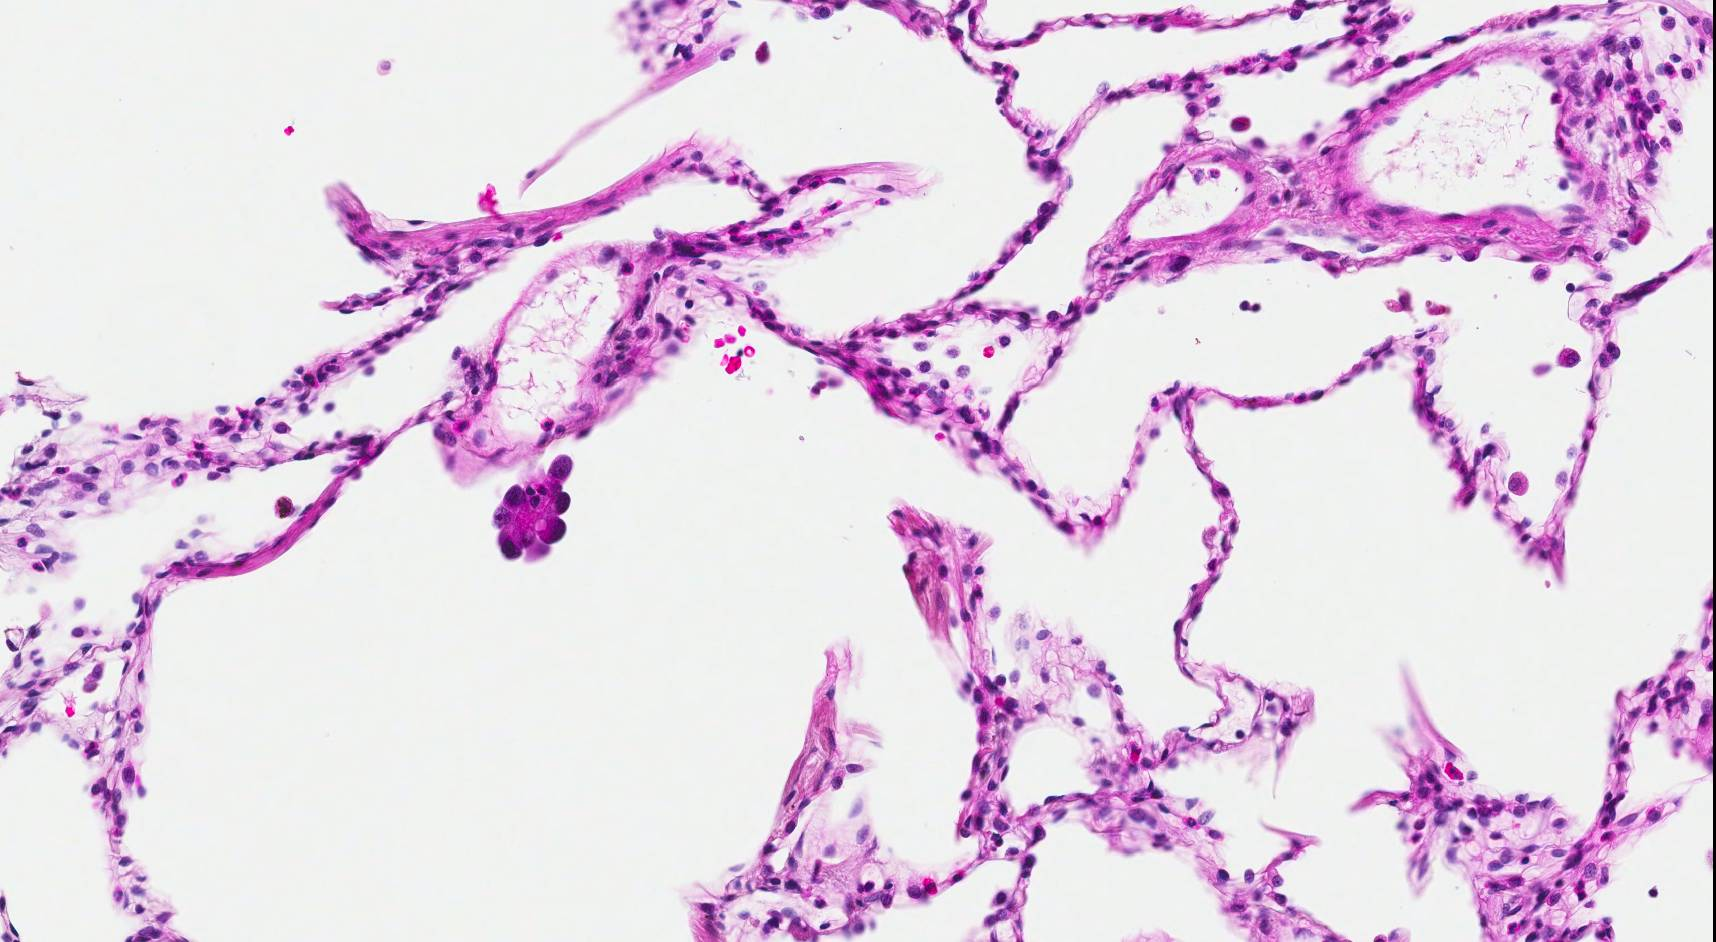stas: (490, 452, 576, 567)
